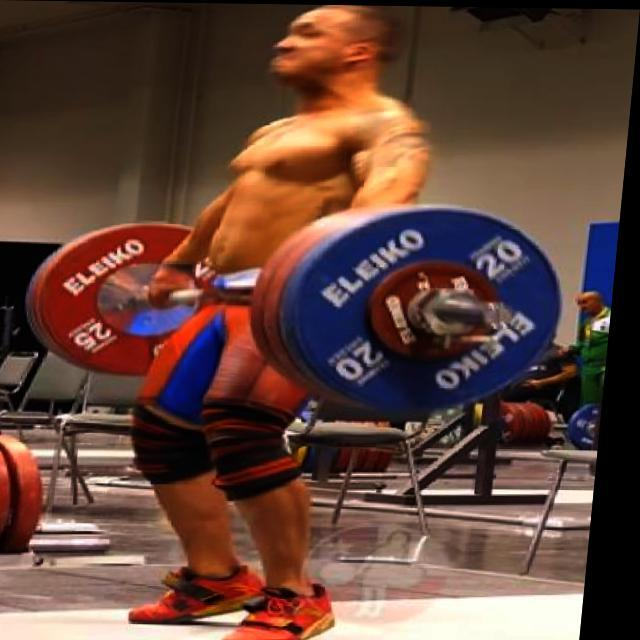barbell: (283, 199, 580, 424)
